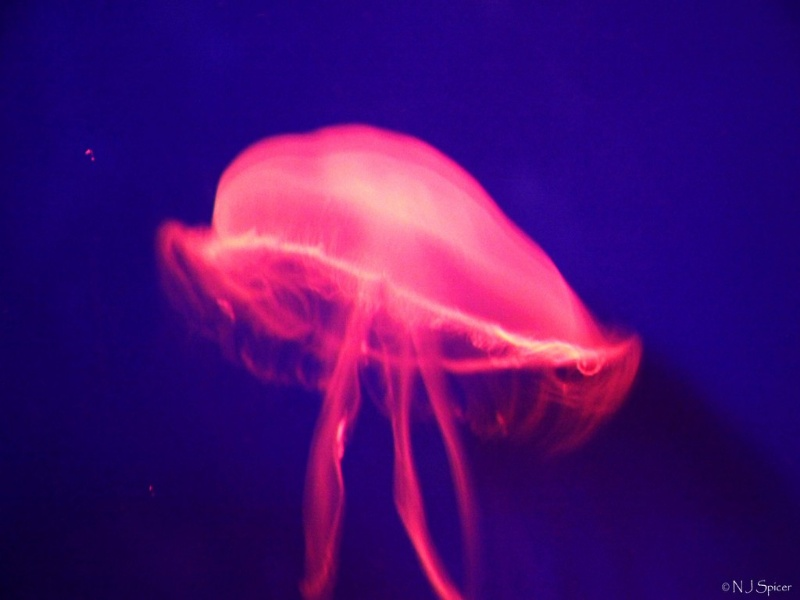Jellyfish: (129, 112, 645, 578)
